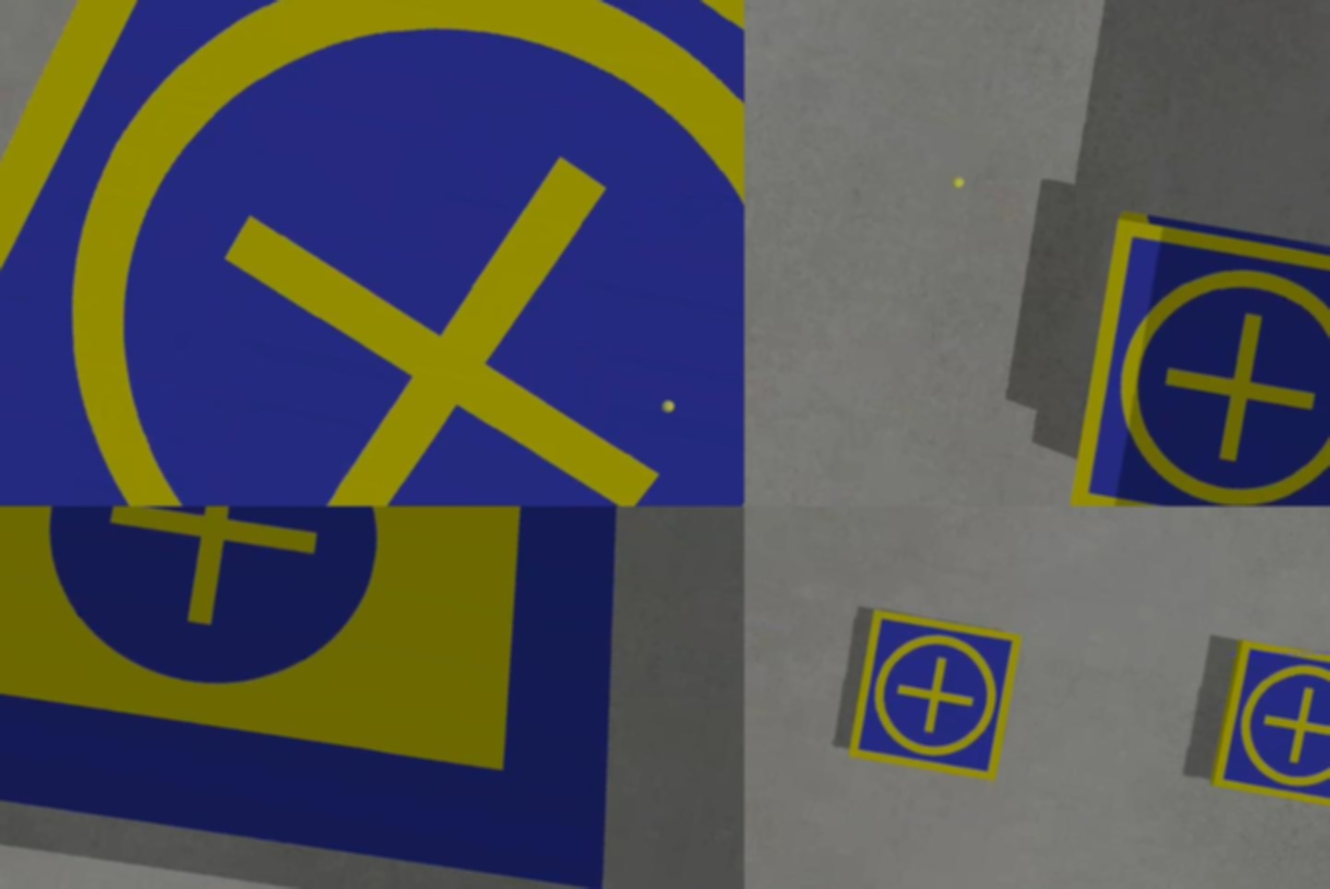large_base: (1, 506, 713, 889)
small_base: (1, 1, 745, 506), (1062, 213, 1330, 506), (845, 608, 1029, 790), (1208, 634, 1330, 817)
